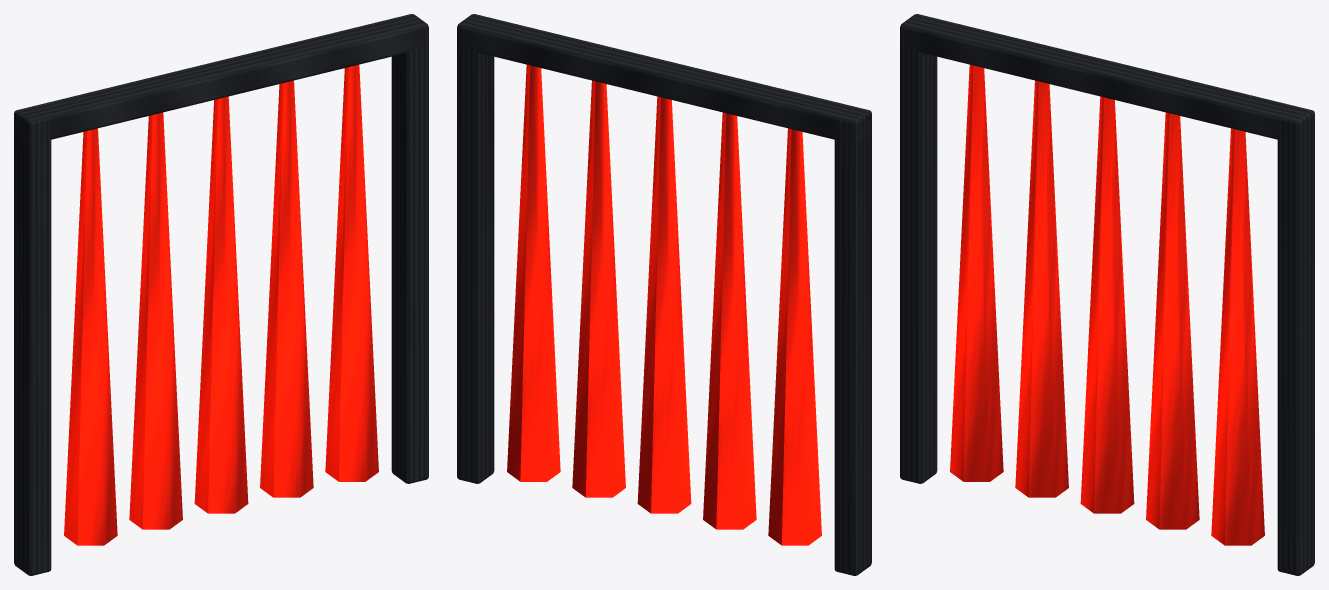
File: SM_FC_HeatBarrier.fbx
3 views of the same model, side by side, from view 1: azimuth 30°, elevation 25°; view 2: azimuth 150°, elevation 25°; view 3: azimuth 330°, elevation 25° (orthographic).
Parts seen in each view (by area): view 1: SM_FC_HeatBarrier; view 2: SM_FC_HeatBarrier; view 3: SM_FC_HeatBarrier.
Boxes of the visible parts, x1,y1,x2,y2 form: SM_FC_HeatBarrier: [14, 14, 428, 575]; SM_FC_HeatBarrier: [457, 14, 871, 575]; SM_FC_HeatBarrier: [900, 14, 1314, 575].
Size of what is drawn, in the model's own units: 2.76 by 3 by 0.32.
